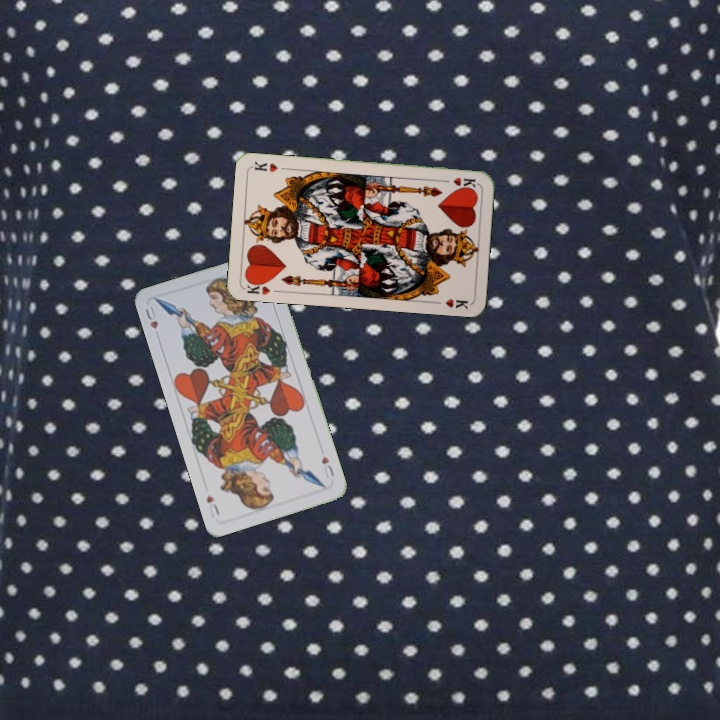HK: (438, 173, 478, 192), (241, 276, 273, 297)
HU: (318, 452, 337, 481), (141, 302, 160, 331)
